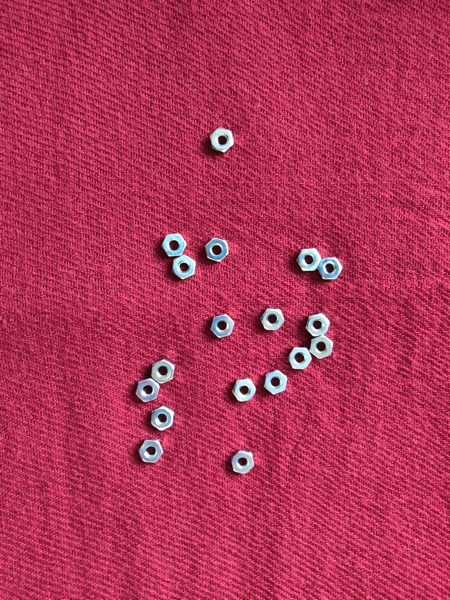nut: (208, 126, 236, 155), (203, 237, 231, 263), (304, 312, 332, 338), (160, 233, 189, 258), (317, 256, 344, 282), (149, 406, 175, 432), (230, 450, 256, 476), (295, 249, 322, 274), (309, 335, 336, 360), (263, 369, 288, 396), (137, 439, 164, 464), (135, 378, 161, 403), (232, 378, 257, 403), (172, 256, 198, 280), (287, 347, 313, 371), (152, 358, 176, 384), (259, 309, 286, 332), (211, 314, 235, 339)
